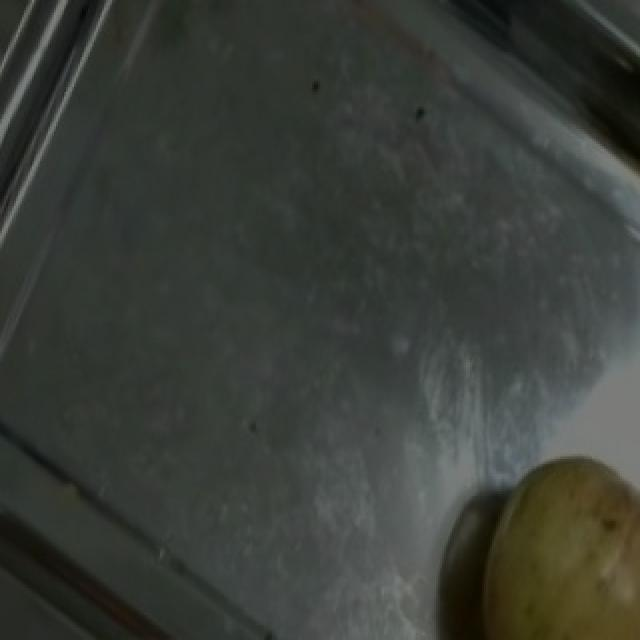fruit: (460, 427, 640, 635)
